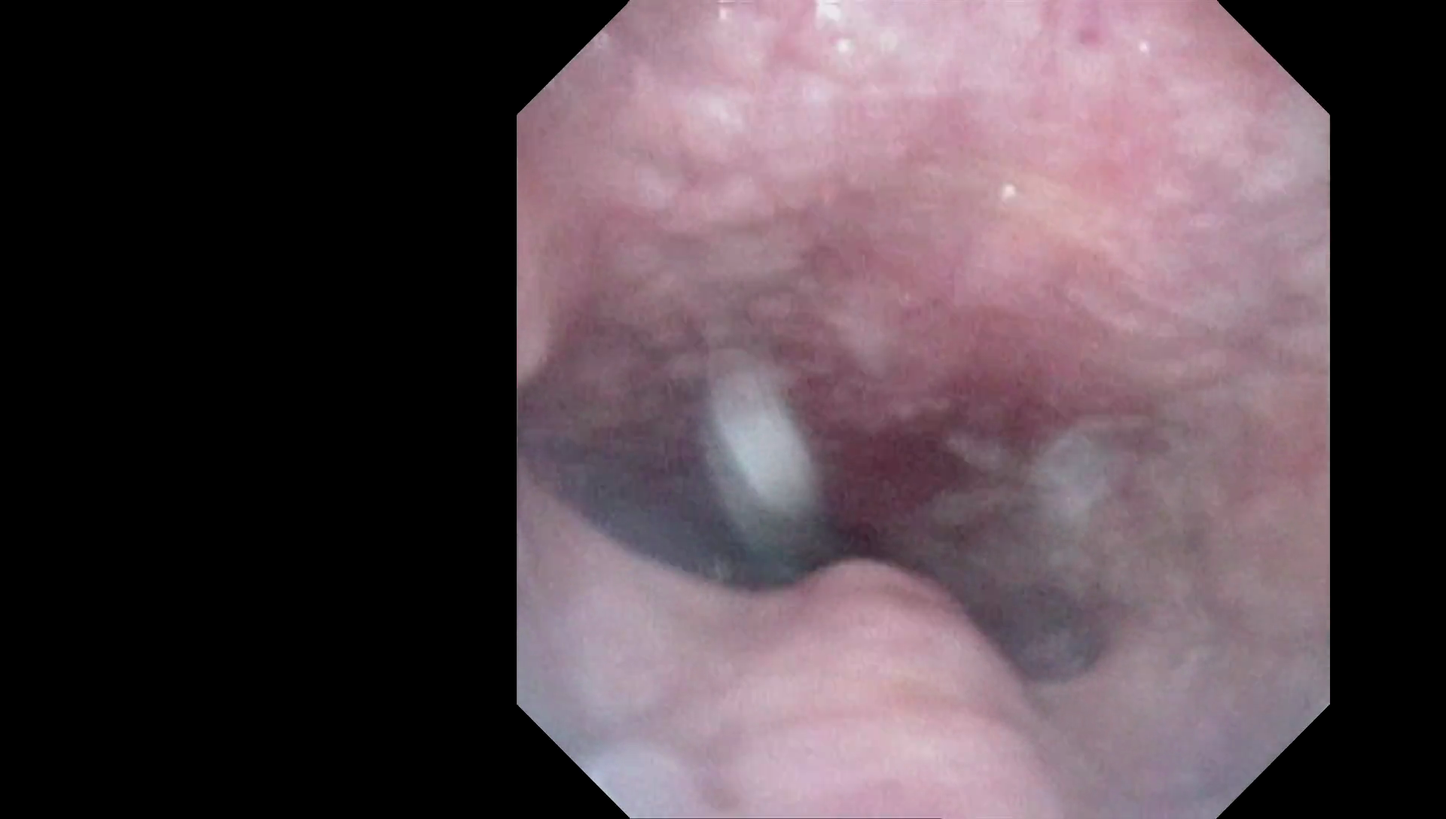next: (565, 425, 909, 635)
